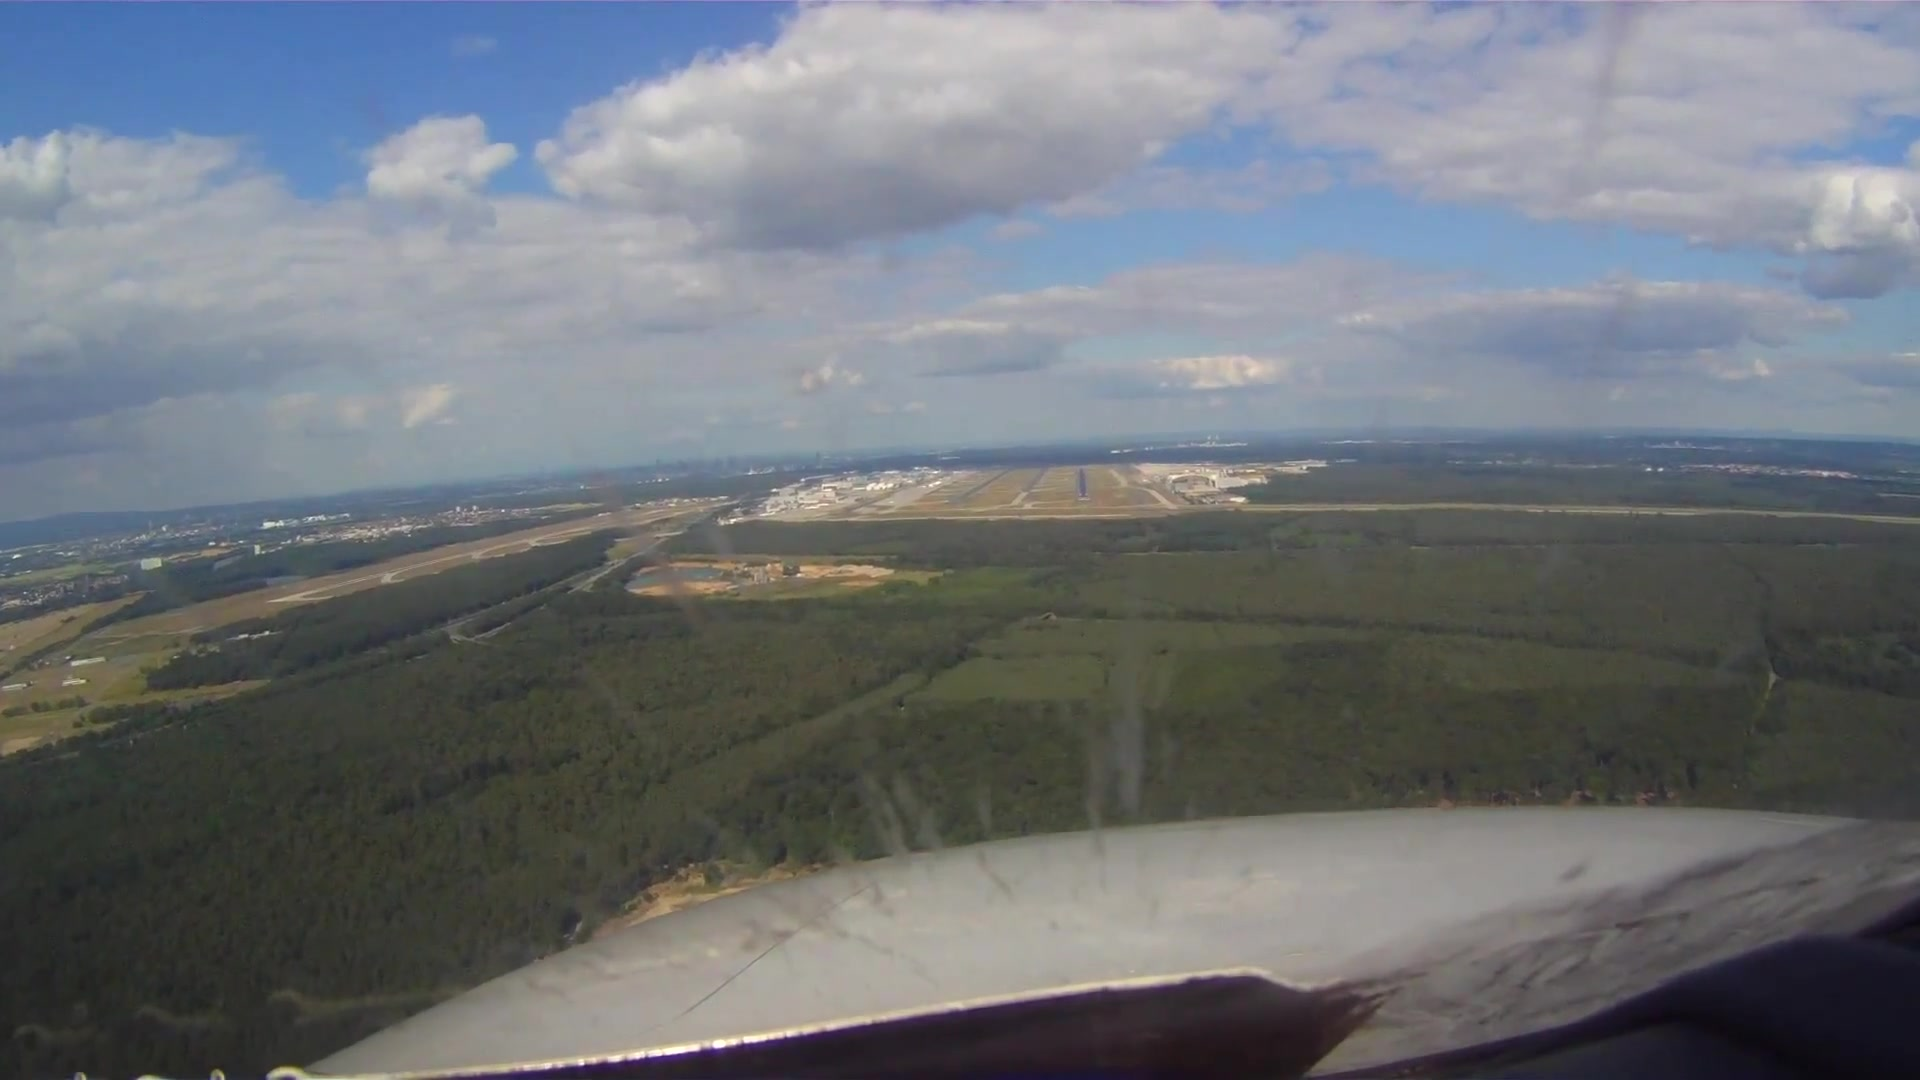runway: (1075, 465, 1089, 502)
